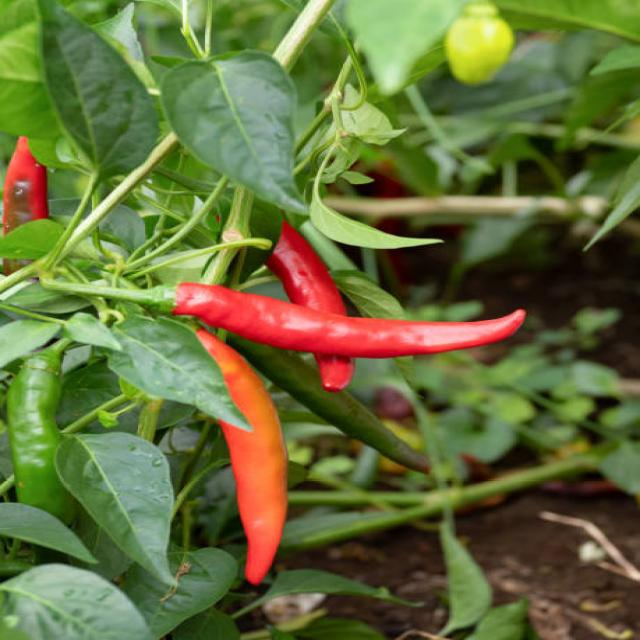Ripe: (177, 283, 527, 361), (197, 329, 286, 586), (266, 225, 351, 317)
Unripe: (7, 350, 75, 523)
